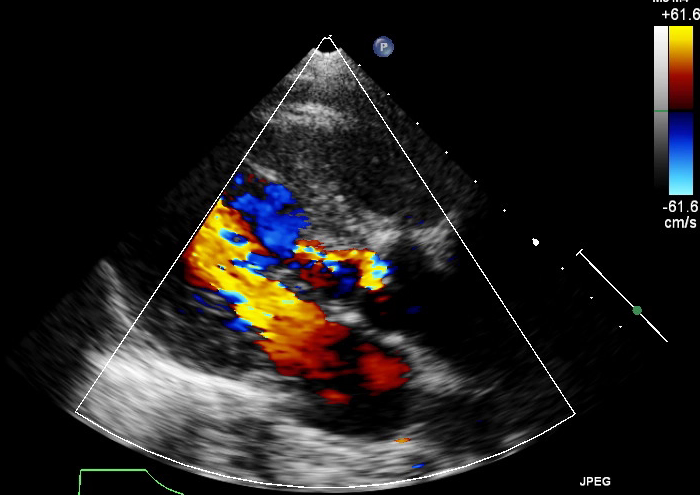AR: (323, 248, 388, 309)
